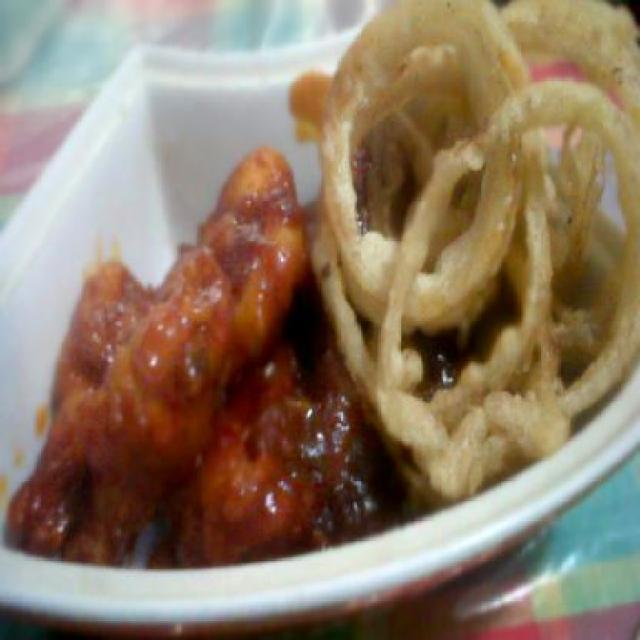chicken wings: (14, 135, 386, 574)
onion rings: (300, 1, 638, 513)
